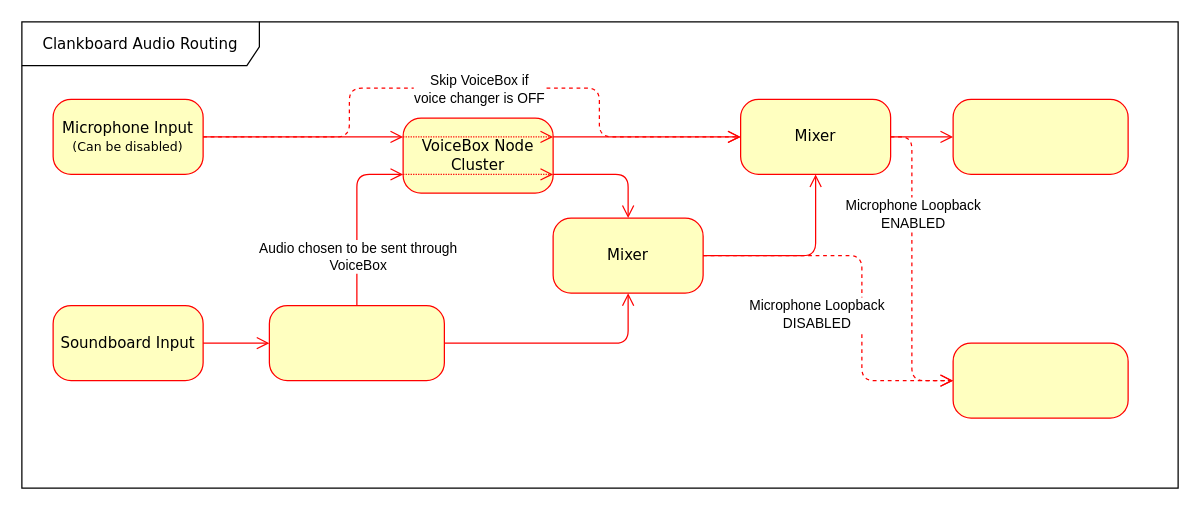
Image size: 1200x510. Some labels were removed from this diagram. The box of each missing label's shape, as (x1, y1, x2, y2) in pixels:
Local Output (Can be disabled): (952, 342, 1128, 418)
Output: (952, 98, 1128, 174)
Resampler (To match Microphone Input) (Ineffective if missing MIC IN): (268, 304, 444, 381)
